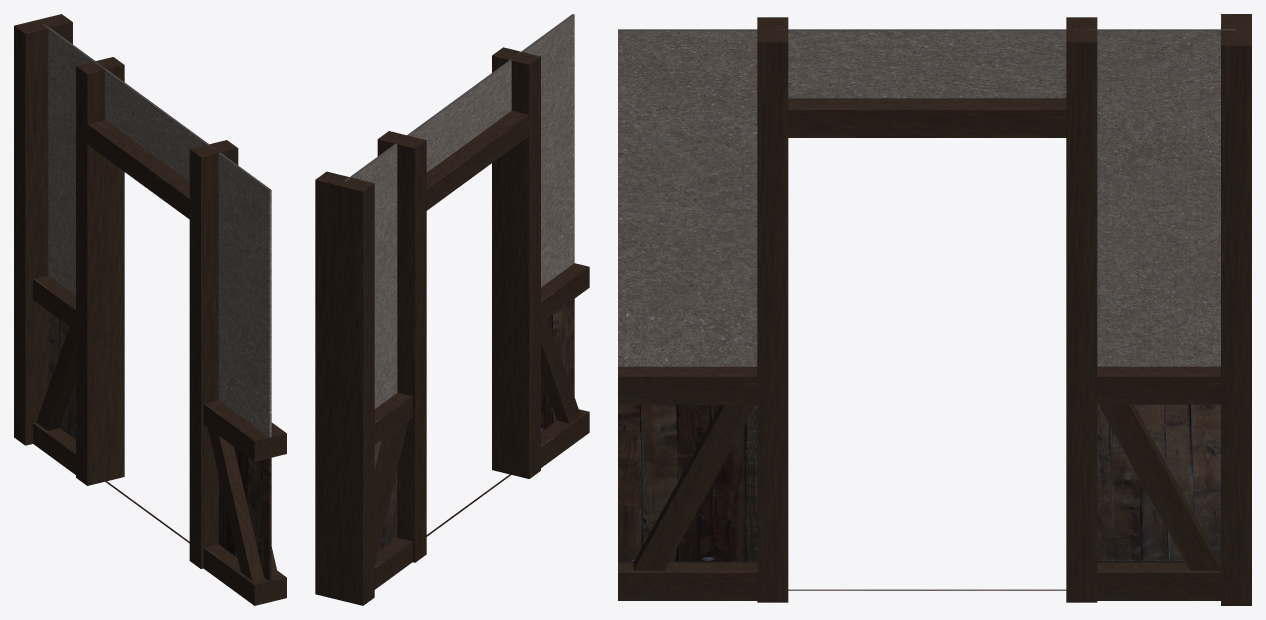
The model's file is OutdoorArchitecture_BasicWall02_Door01_NoDoor_RightEdge_BShortt.fbx.
3 views of the same model, side by side, from view 1: azimuth 30°, elevation 25°; view 2: azimuth 150°, elevation 25°; view 3: azimuth 270°, elevation 25° (orthographic). The views are drawn at different scales.
Visible parts, largest first — view 1: OutdoorArchitecture_BasicWall02_Door01_NoDoor_RightEdge_BSho; view 2: OutdoorArchitecture_BasicWall02_Door01_NoDoor_RightEdge_BSho; view 3: OutdoorArchitecture_BasicWall02_Door01_NoDoor_RightEdge_BSho.
Boxes of the visible parts, x1=… form: OutdoorArchitecture_BasicWall02_Door01_NoDoor_RightEdge_BSho: x1=14, y1=14, x2=286, y2=605; OutdoorArchitecture_BasicWall02_Door01_NoDoor_RightEdge_BSho: x1=315, y1=14, x2=589, y2=605; OutdoorArchitecture_BasicWall02_Door01_NoDoor_RightEdge_BSho: x1=618, y1=14, x2=1251, y2=605.
Bounding box in the file's own units: 36.37 × 300 × 308.
